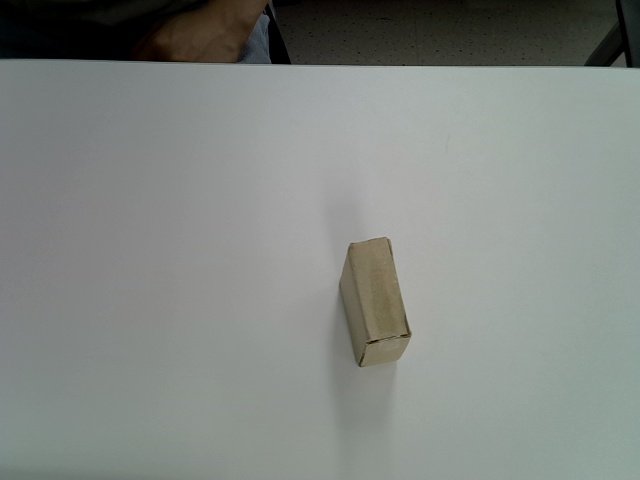normal: (339, 237, 413, 368)
